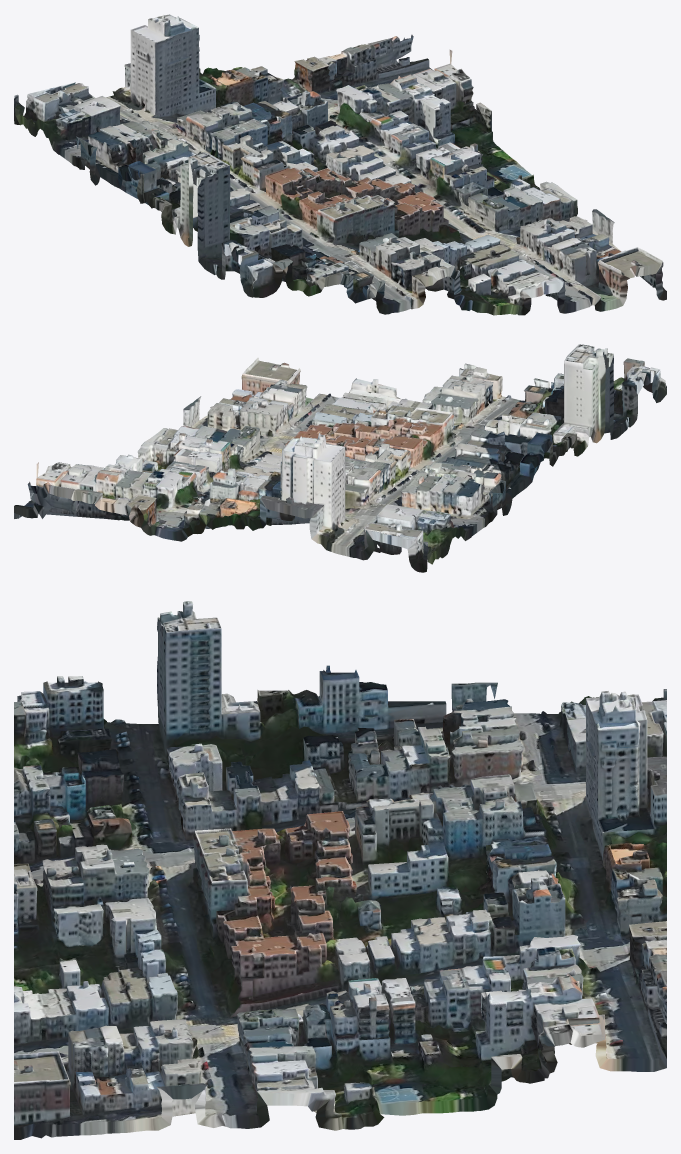
Rendered from z17-20965-50650-h0-yup-uvflip-v3-world.glb.
The picture shows the model from 3 angles, top to bottom: view 1: azimuth 30°, elevation 25°; view 2: azimuth 150°, elevation 25°; view 3: azimuth 270°, elevation 25°; orthographic projection. The views are drawn at different scales.
Size of the model in its own units: 242 by 109 by 243.
1 material, 1 textured.
